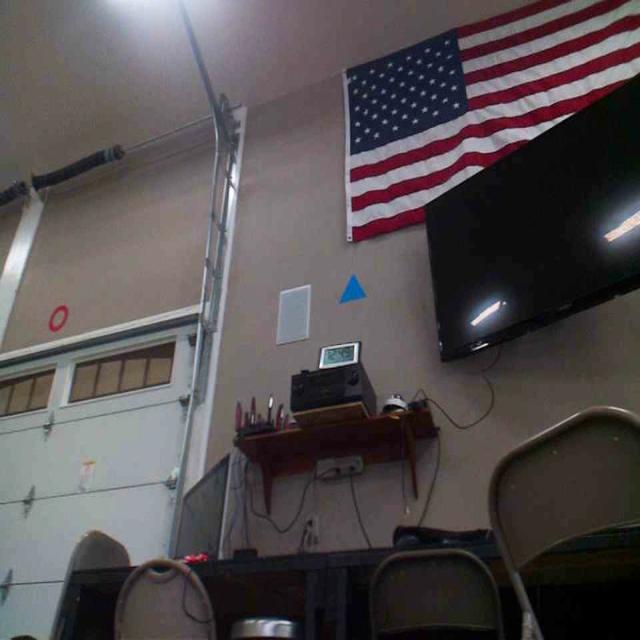ring_red: (48, 303, 70, 333)
triangle_blue: (337, 270, 368, 305)
